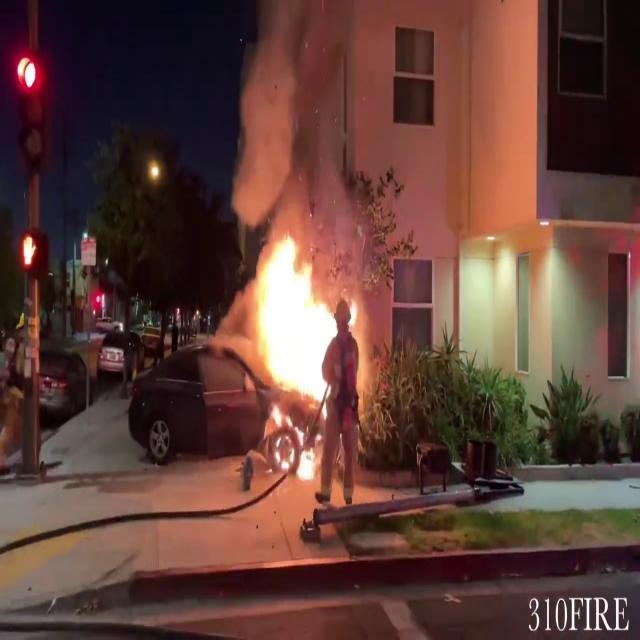Fire: (246, 228, 344, 466)
Smoke: (229, 0, 377, 241)
